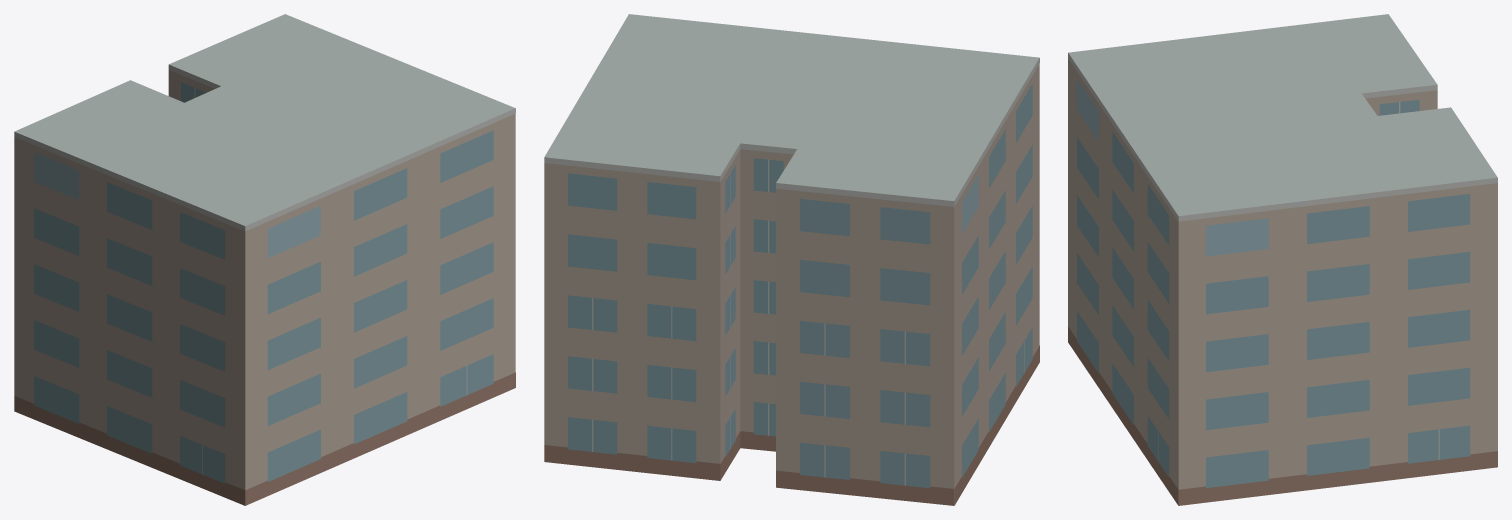
File: survey-upis-32685140.glb
3 renders of one model, left to right at view 1: azimuth 30°, elevation 25°; view 2: azimuth 150°, elevation 25°; view 3: azimuth 270°, elevation 25°, orthographic. The views are drawn at different scales.
Parts seen in each view (by area): view 1: survey-upis-32685140.tmp; view 2: survey-upis-32685140.tmp; view 3: survey-upis-32685140.tmp.
Boxes of the visible parts, x1,y1,x2,y2 form: survey-upis-32685140.tmp: [14, 14, 515, 505]; survey-upis-32685140.tmp: [544, 14, 1039, 505]; survey-upis-32685140.tmp: [1068, 14, 1497, 505].
Size of the model in its own units: 19.47 by 13 by 17.49.
